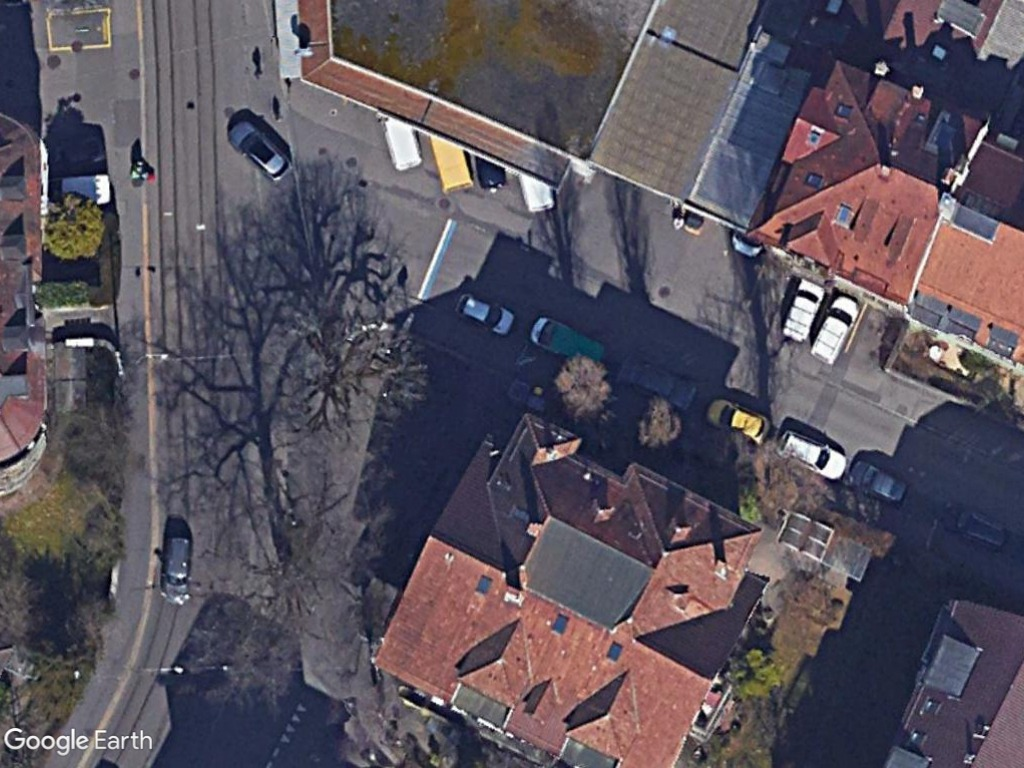car: (225, 118, 295, 182), (776, 424, 851, 483), (703, 395, 772, 447), (846, 455, 911, 507), (453, 292, 517, 336), (158, 532, 193, 609)
van: (811, 293, 865, 365), (780, 277, 826, 338)
